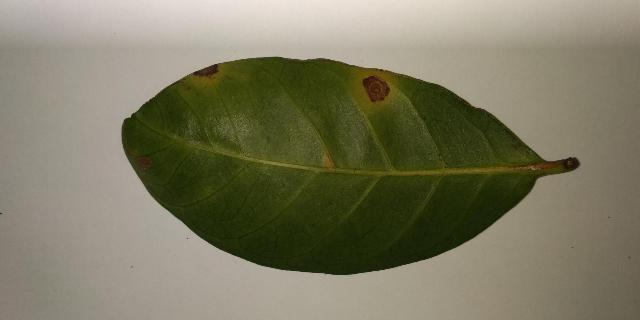phoma: (352, 68, 398, 111), (190, 63, 226, 86), (322, 152, 335, 170), (134, 157, 151, 169)
